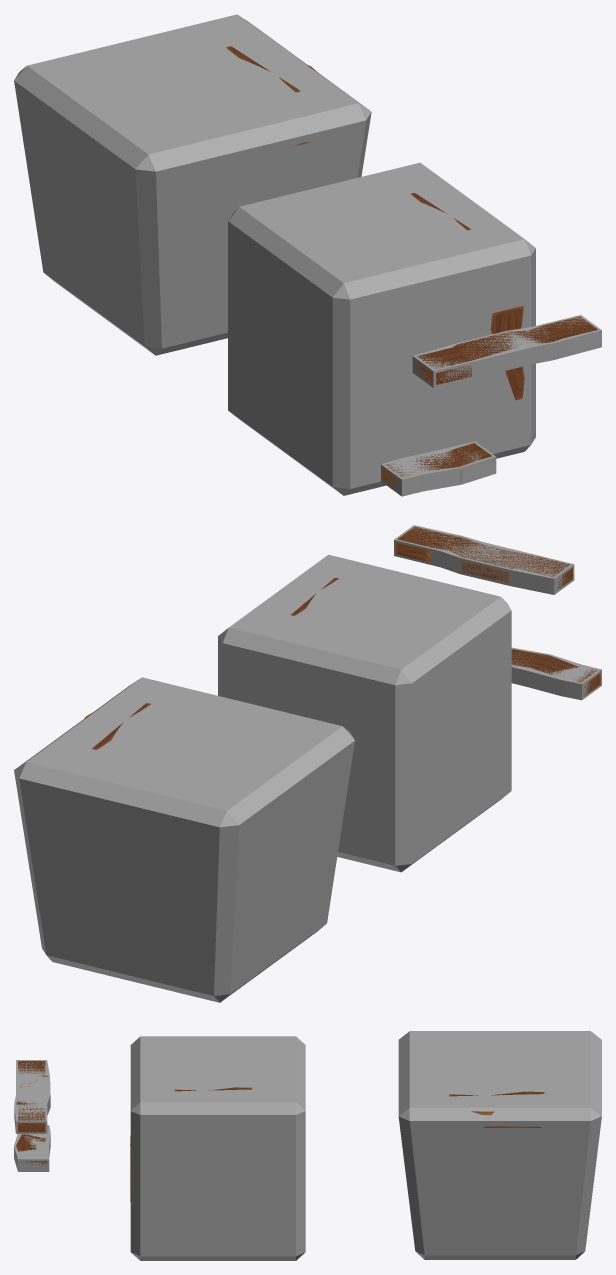
The model's file is CrateFbx.fbx.
3 renders of one model, top to bottom at view 1: azimuth 30°, elevation 25°; view 2: azimuth 150°, elevation 25°; view 3: azimuth 270°, elevation 25°, orthographic. The views are drawn at different scales.
Visible parts, largest first — view 1: CrateSymmetricColl, CrateSkewedColl, BigPlankcoll, BigPlank, SmallPlankColl, SmallPlank, CrateSymmetric; view 2: CrateSkewedColl, CrateSymmetricColl, BigPlankcoll, BigPlank, SmallPlankColl, SmallPlank; view 3: CrateSkewedColl, CrateSymmetricColl, BigPlankcoll, SmallPlankColl, BigPlank, SmallPlank, CrateSkewed.
Part boxes in pixels (bbox=[...]): CrateSymmetricColl: bbox=[228, 162, 535, 495]; CrateSkewedColl: bbox=[14, 14, 371, 355]; BigPlankcoll: bbox=[412, 315, 601, 387]; BigPlank: bbox=[414, 316, 597, 385]; SmallPlankColl: bbox=[381, 441, 496, 496]; SmallPlank: bbox=[382, 443, 492, 489]; CrateSymmetric: bbox=[410, 193, 524, 400]; CrateSkewedColl: bbox=[14, 677, 354, 1002]; CrateSymmetricColl: bbox=[218, 554, 511, 872]; BigPlankcoll: bbox=[394, 525, 574, 594]; BigPlank: bbox=[396, 526, 572, 589]; SmallPlankColl: bbox=[511, 647, 601, 700]; SmallPlank: bbox=[511, 649, 600, 695]; CrateSkewedColl: bbox=[398, 1031, 601, 1259]; CrateSymmetricColl: bbox=[130, 1036, 305, 1260]; BigPlankcoll: bbox=[14, 1060, 50, 1133]; SmallPlankColl: bbox=[14, 1125, 50, 1171]; BigPlank: bbox=[16, 1061, 47, 1132]; SmallPlank: bbox=[16, 1127, 47, 1166]; CrateSkewed: bbox=[449, 1091, 544, 1127].
Size of the model in its own units: 1.38 by 1.19 by 3.99.
